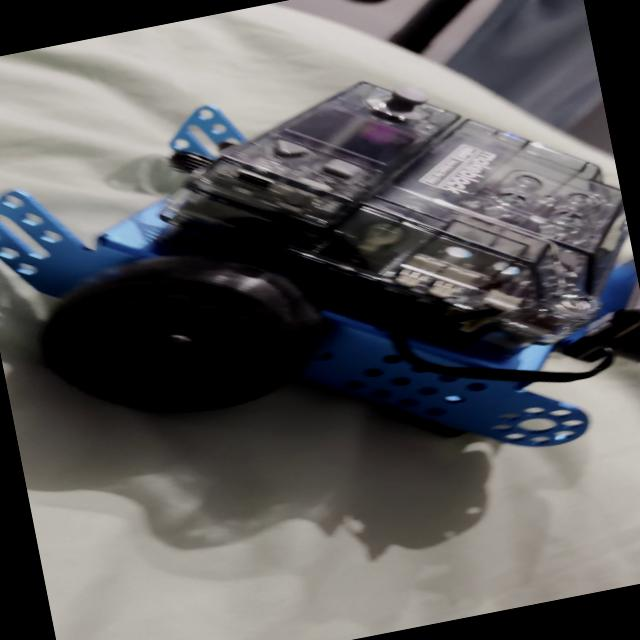mbot-detection: (0, 21, 640, 554)
